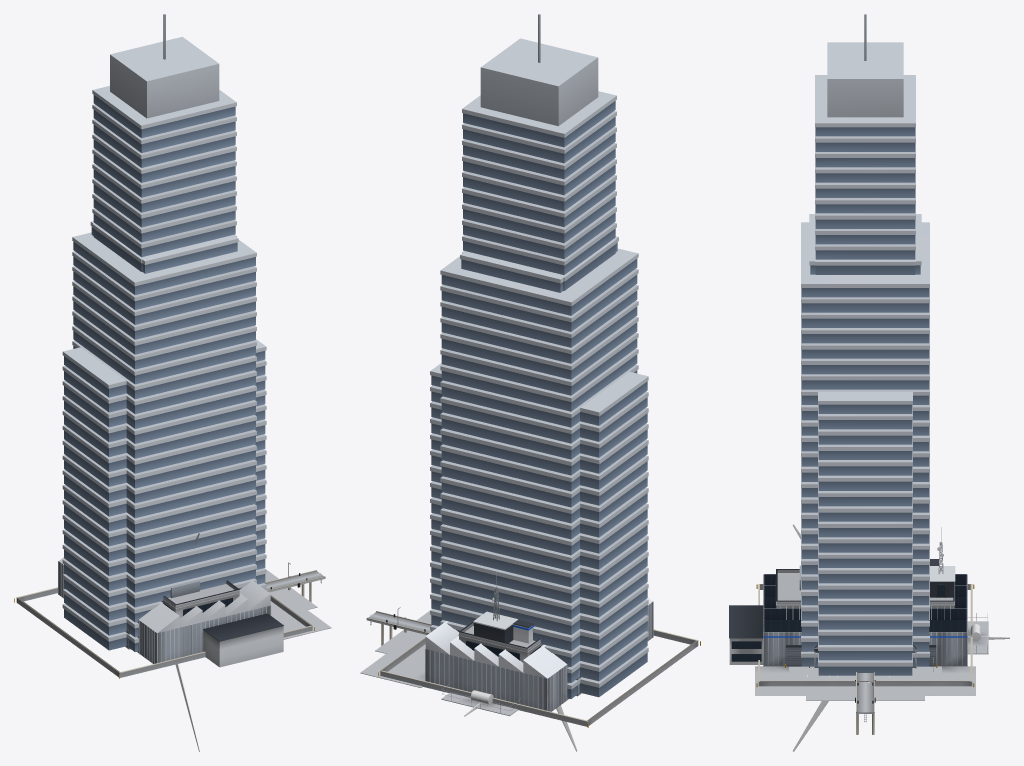
File: continua_props.glb
3 renders of one model, left to right at view 1: azimuth 30°, elevation 25°; view 2: azimuth 150°, elevation 25°; view 3: azimuth 270°, elevation 25°, orthographic. The views are drawn at different scales.
Visible parts, largest first — view 1: PROP_Skyline_A, PROP_Skyline_C, PROP_Warehouse, PROP_Bund, PROP_Skyline_B, PROP_Facility_Main, PROP_Jetty; view 2: PROP_Skyline_A, PROP_Skyline_C, PROP_Warehouse, PROP_Bund, PROP_Facility_Main, PROP_Skyline_B, PROP_Gateway, PROP_Jetty; view 3: PROP_Skyline_A, PROP_Skyline_C, PROP_Warehouse, PROP_Facility_Main, PROP_Bund, PROP_Skyline_B, PROP_Jetty, PROP_ResponseStation, PROP_Gateway, PROP_Facility_Hangar.
Part boxes in pixels (x1,y1,x2,y2): PROP_Skyline_A: (72,14,256,651); PROP_Skyline_C: (62,339,266,650); PROP_Warehouse: (58,557,331,667); PROP_Bund: (14,587,314,678); PROP_Skyline_B: (90,221,238,273); PROP_Facility_Main: (161,580,239,617); PROP_Jetty: (264,562,325,602); PROP_Skyline_A: (440,14,638,698); PROP_Skyline_C: (430,363,648,697); PROP_Warehouse: (360,597,653,711); PROP_Bund: (378,629,700,727); PROP_Facility_Main: (458,572,542,662); PROP_Skyline_B: (460,236,618,292); PROP_Gateway: (441,682,520,716); PROP_Jetty: (366,607,432,645); PROP_Skyline_A: (801,14,929,666); PROP_Skyline_C: (818,392,912,675); PROP_Warehouse: (729,574,975,695); PROP_Facility_Main: (775,527,955,674); PROP_Bund: (756,584,974,687); PROP_Skyline_B: (809,214,921,274); PROP_Jetty: (855,672,875,734); PROP_ResponseStation: (789,559,941,677); PROP_Gateway: (967,613,988,654); PROP_Facility_Hangar: (806,645,924,700).
Size of the model in its own units: 71.7 by 192 by 66.1.
